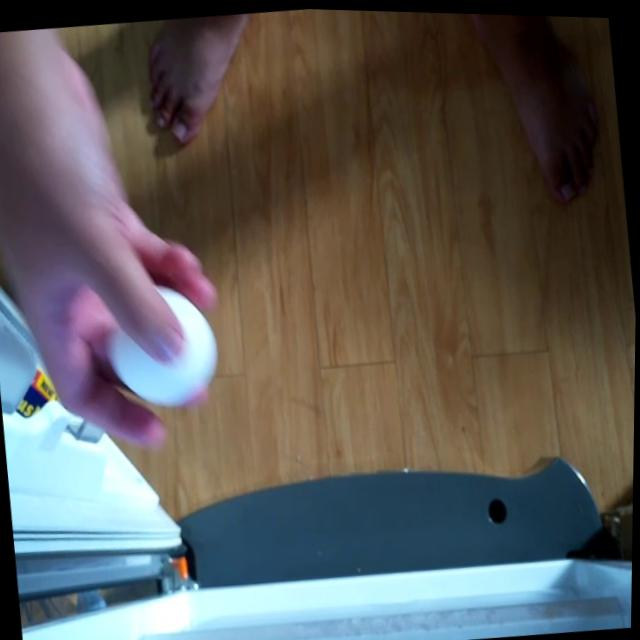egg: (95, 269, 227, 426)
